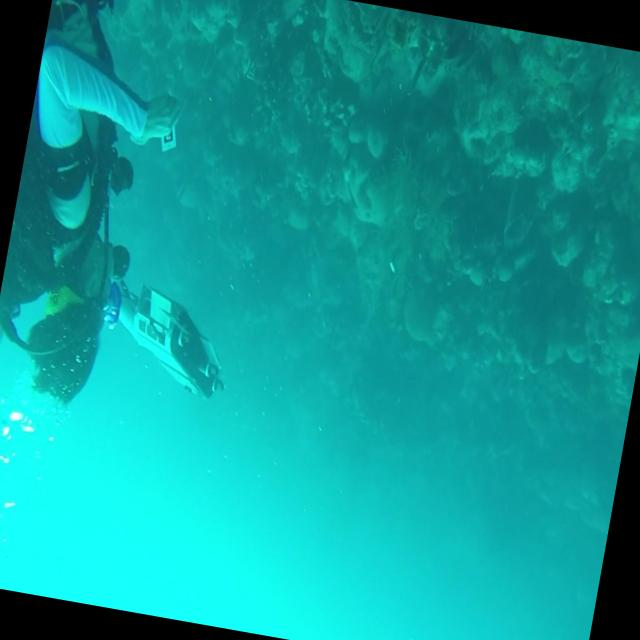human: (0, 0, 205, 418)
